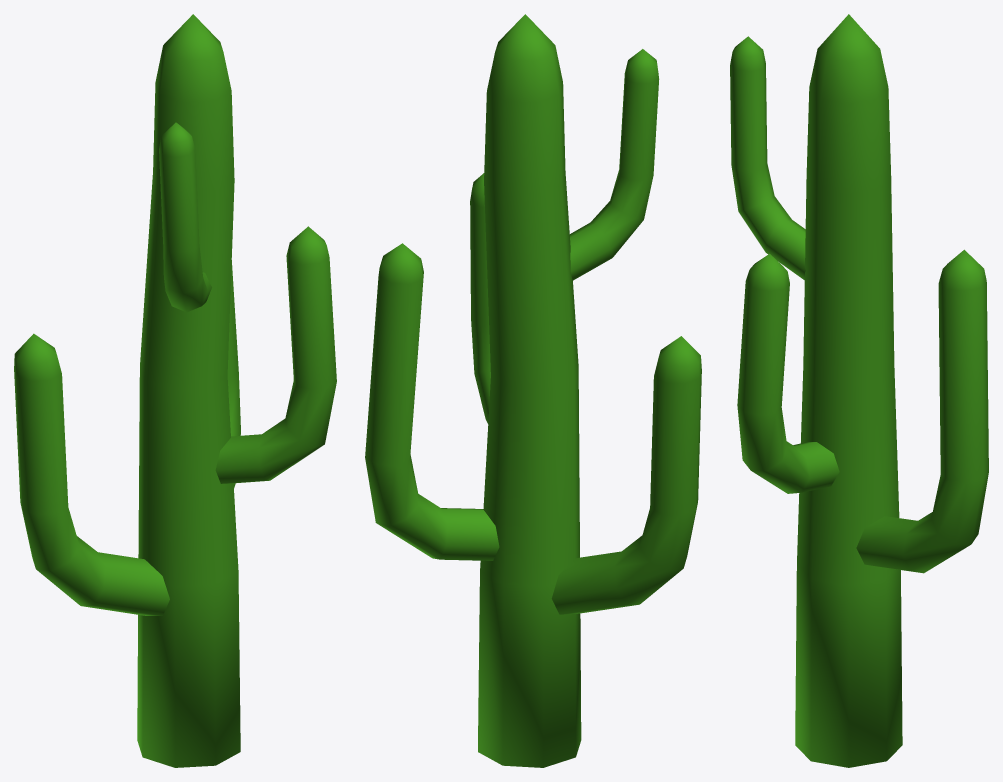
The model's file is Cactus_DarkGreen_Smooth_2.fbx.
3 renders of one model, left to right at view 1: azimuth 30°, elevation 25°; view 2: azimuth 150°, elevation 25°; view 3: azimuth 270°, elevation 25°, orthographic.
Parts seen in each view (by area): view 1: Cactus; view 2: Cactus; view 3: Cactus.
Part boxes in pixels (left/top/right/bottom): Cactus: left=14, top=14, right=336, bottom=767; Cactus: left=365, top=14, right=701, bottom=767; Cactus: left=730, top=14, right=988, bottom=767.
Size of the model in its own units: 153 by 386 by 124.
